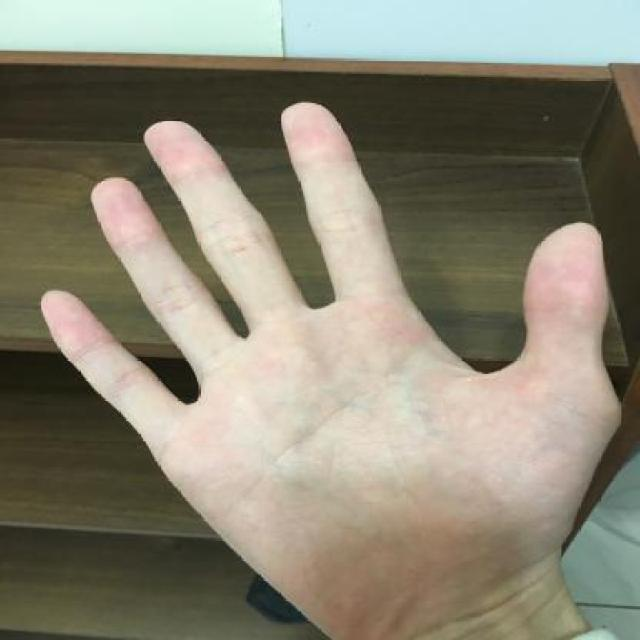bare_hand: (10, 84, 632, 638)
